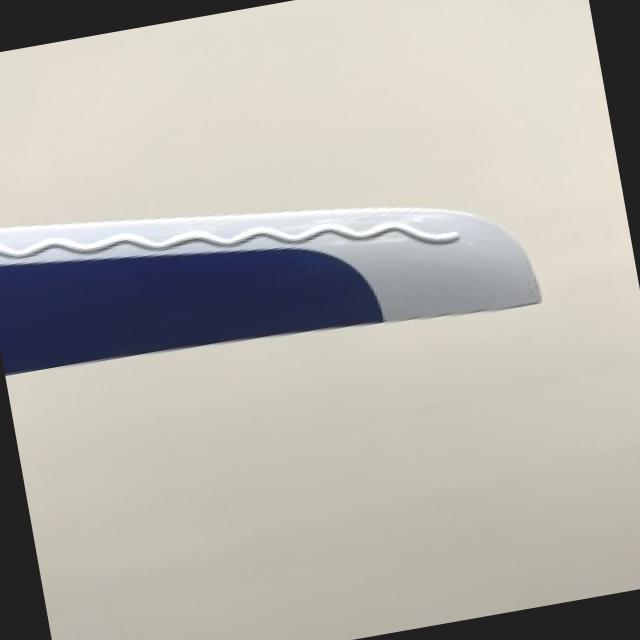healthy: (0, 206, 537, 369)
